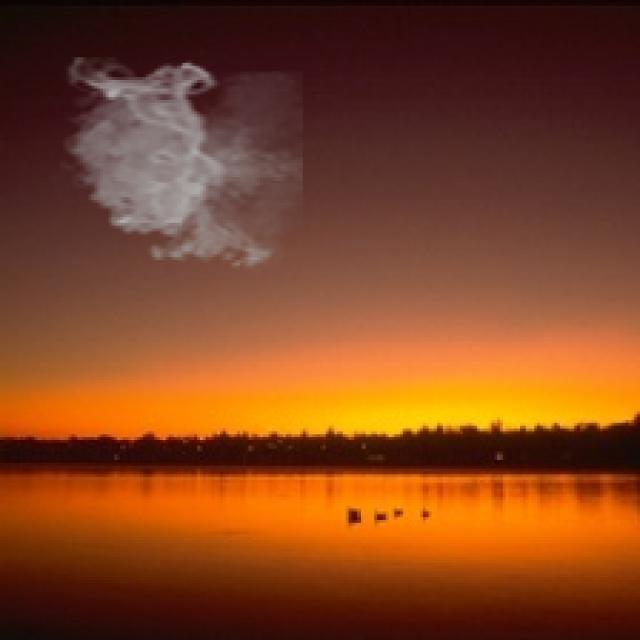Smoke: (60, 57, 303, 274)
